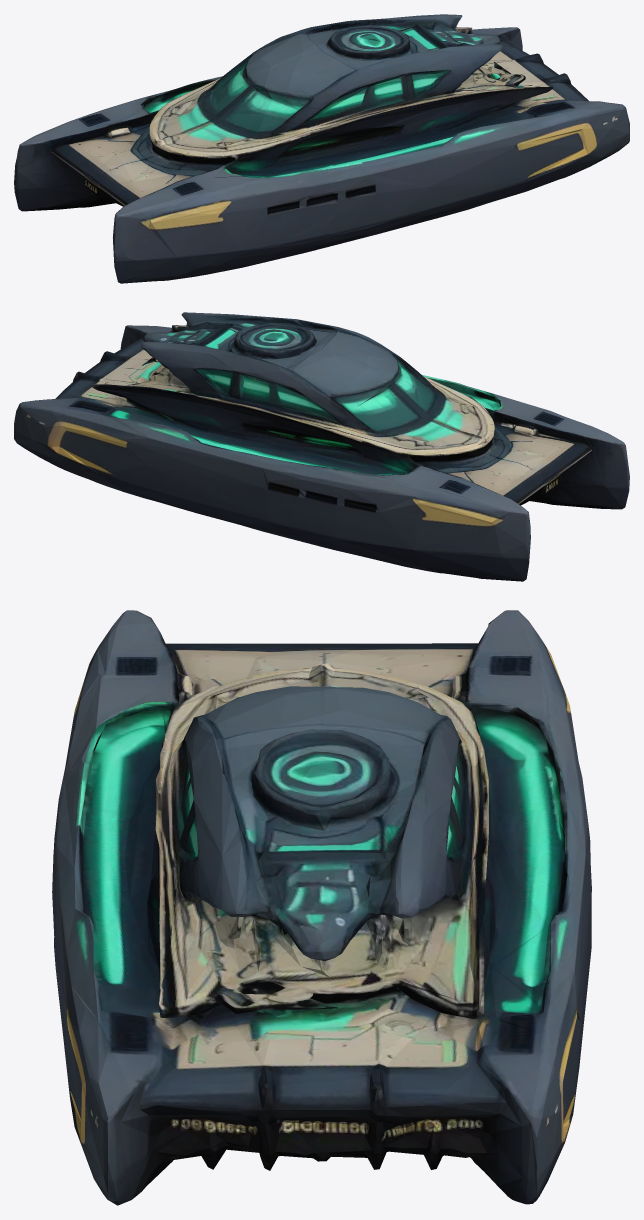
The model's file is veh-ocean-catamaran.glb.
The picture shows the model from 3 angles, top to bottom: view 1: azimuth 30°, elevation 25°; view 2: azimuth 150°, elevation 25°; view 3: azimuth 270°, elevation 25°; orthographic projection. The views are drawn at different scales.
Visible parts, largest first — view 1: material; view 2: material; view 3: material.
Part boxes in pixels (x1=…): material: x1=14, y1=14, x2=629, y2=283; material: x1=14, y1=312, x2=629, y2=581; material: x1=52, y1=610, x2=591, y2=1205.
Bounding box in the file's own units: 1.12 × 0.3053 × 0.5094.
Materials: 1 (1 with a texture image).
